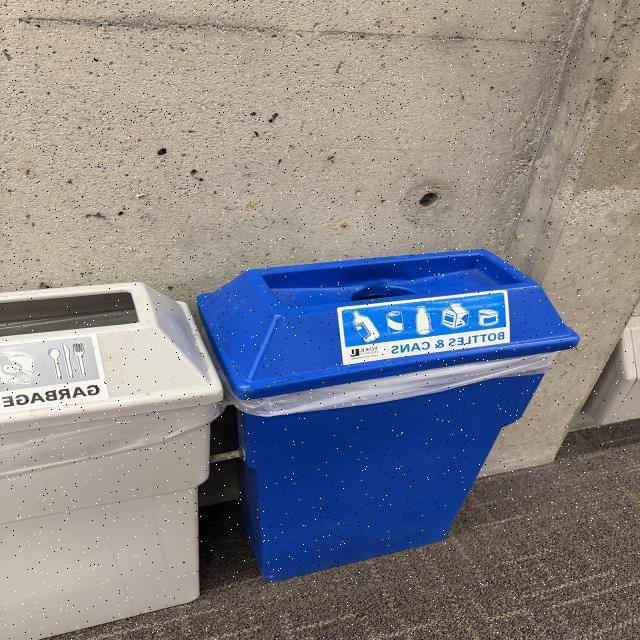Dustbin: (0, 250, 580, 639)
